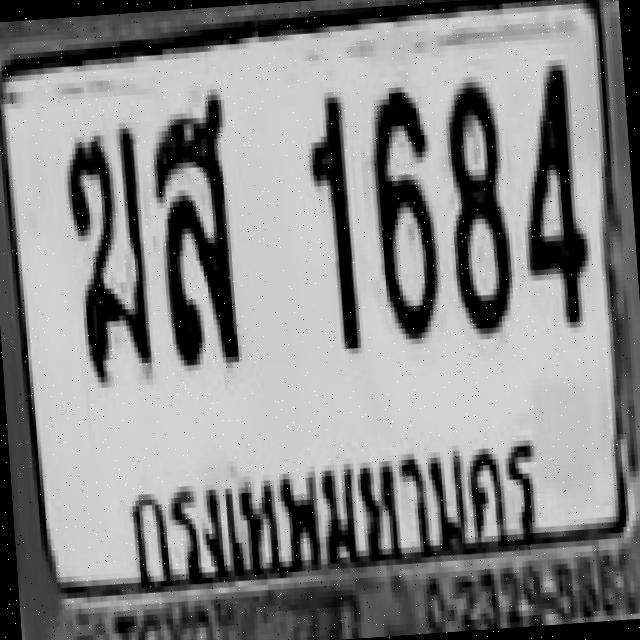1: (302, 88, 360, 353)
15KhorRaKhang: (60, 122, 152, 378)
4: (512, 58, 588, 324)
49SorSuea: (146, 88, 242, 366)
6: (365, 80, 441, 340)
8: (439, 75, 511, 330)
Bangkok: (111, 418, 550, 594)
